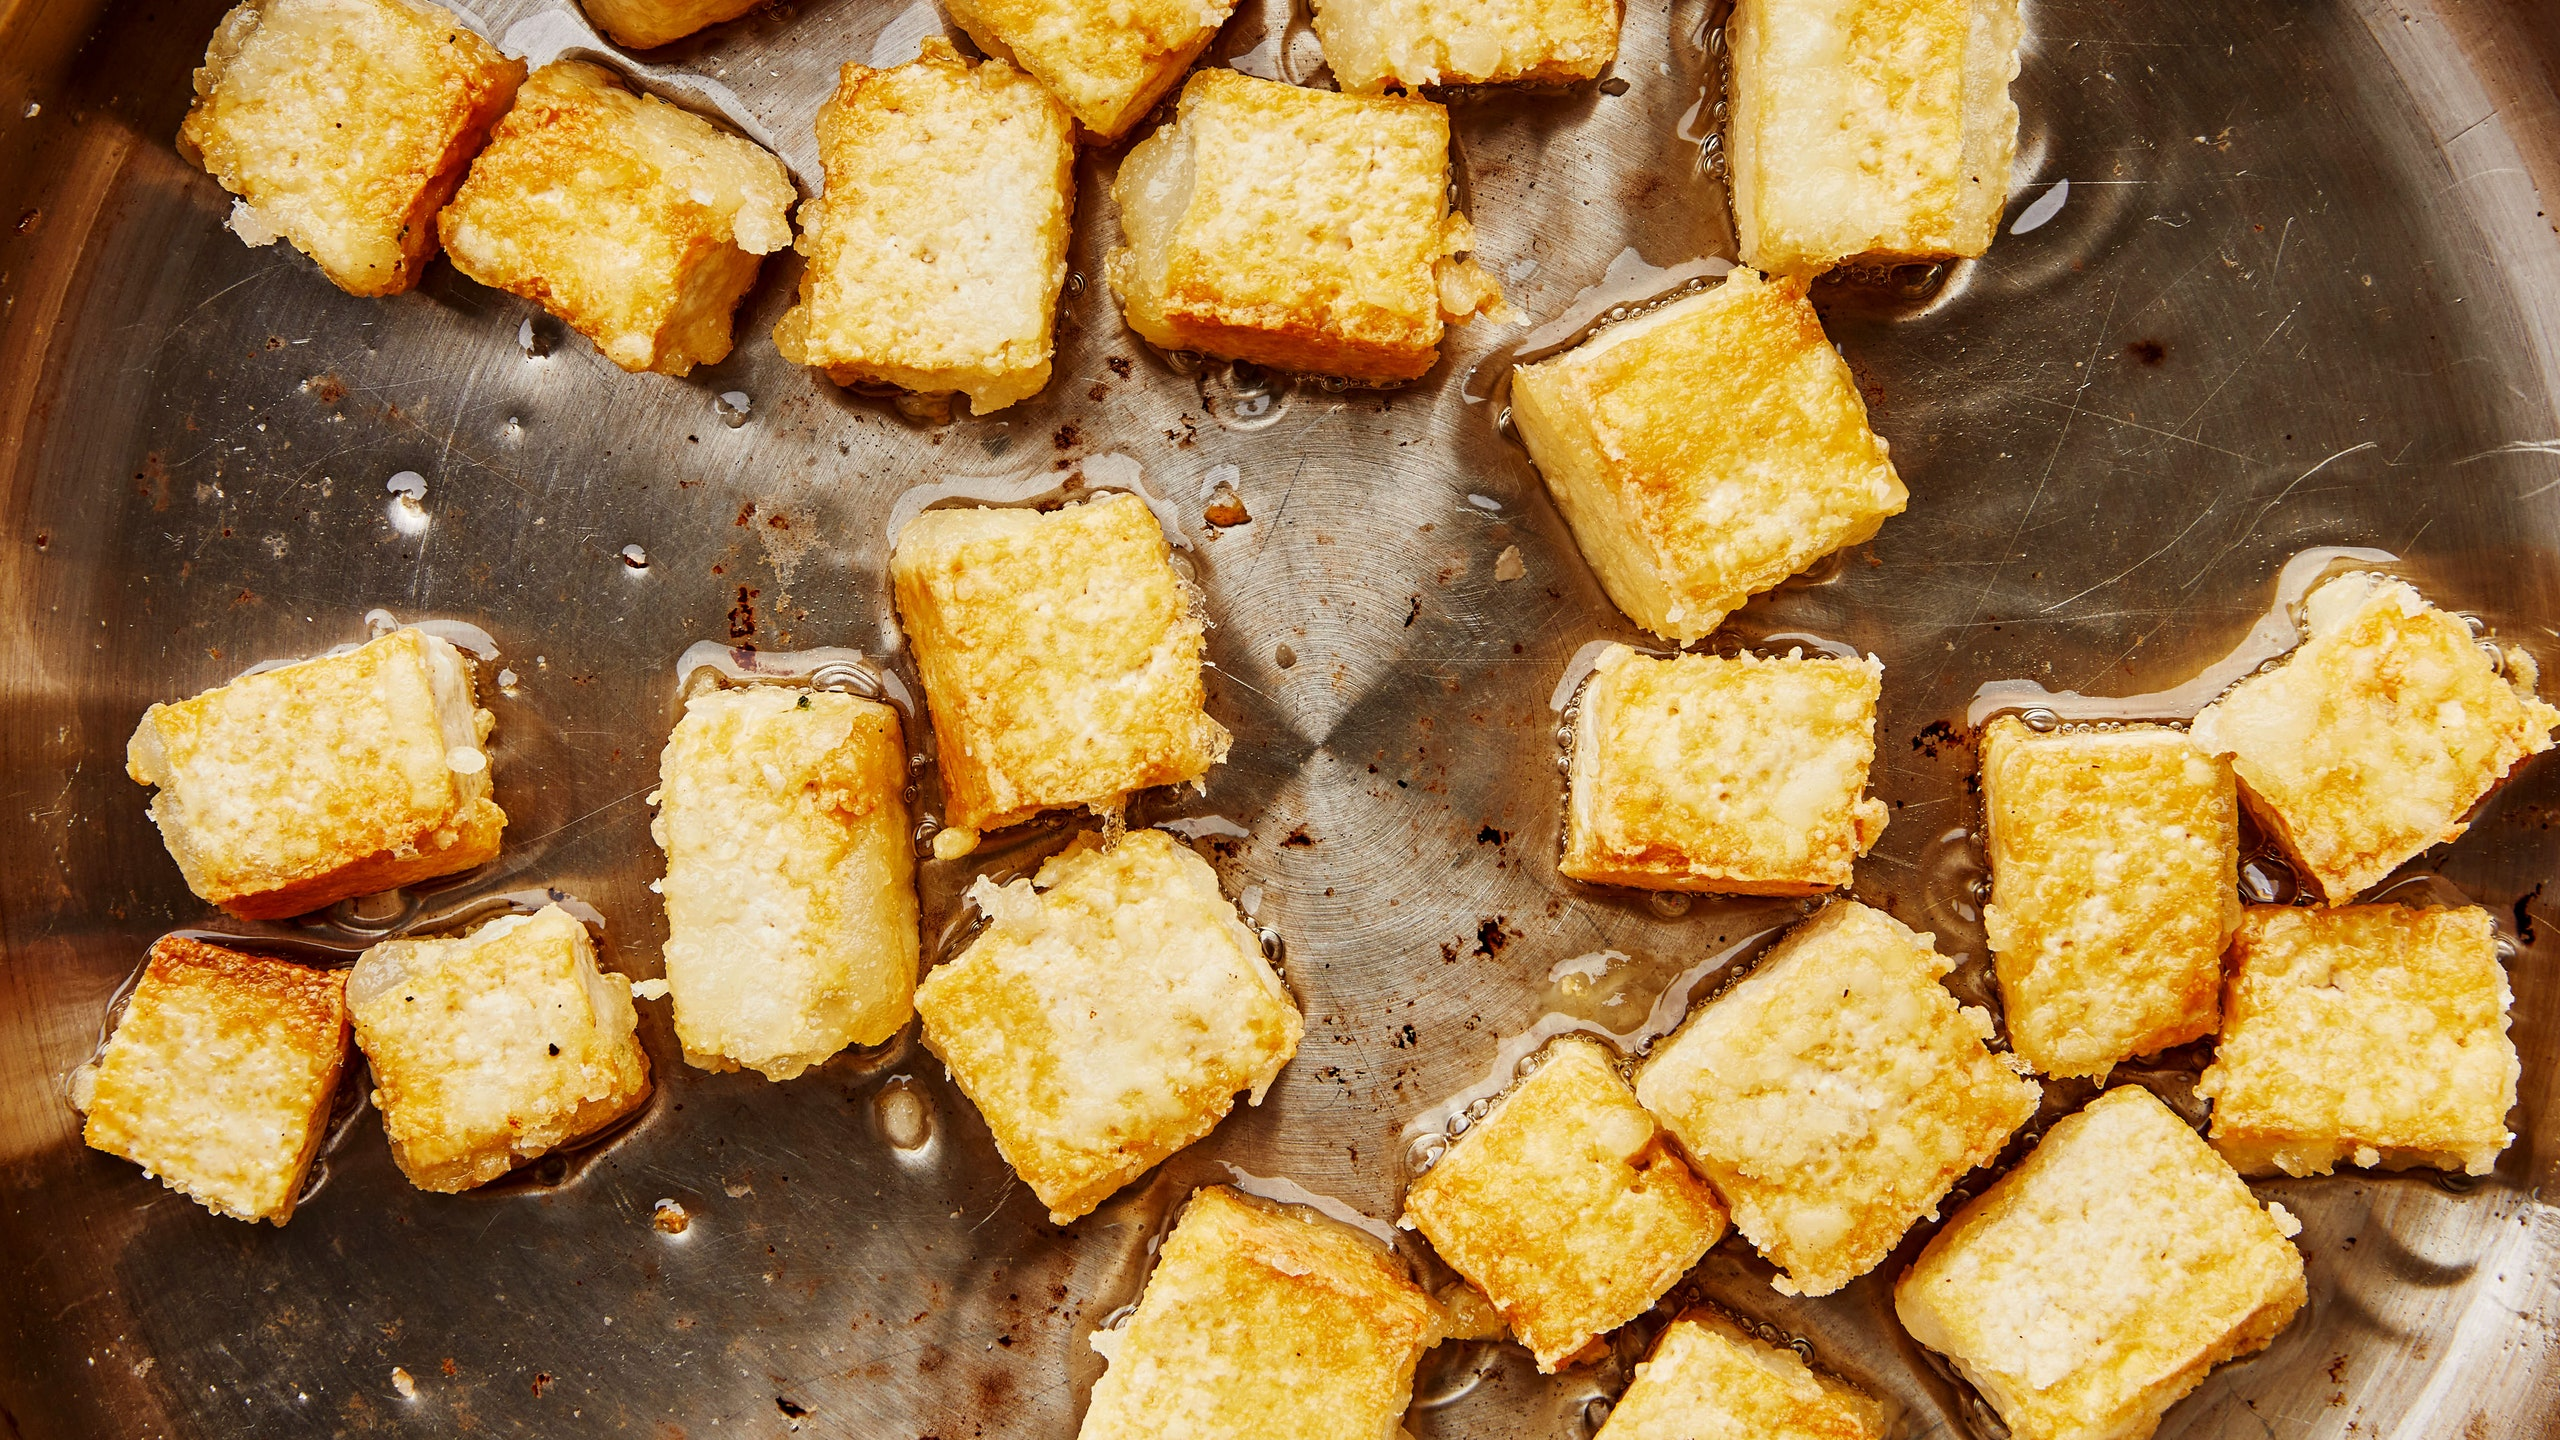Tahu: (596, 628, 913, 1118), (141, 550, 531, 937), (1036, 111, 1505, 420), (1924, 1055, 2324, 1403), (932, 789, 1289, 1166), (1064, 1143, 1502, 1440), (1533, 318, 1922, 612), (1959, 686, 2287, 1029), (902, 468, 1238, 802), (1514, 614, 1932, 881), (47, 907, 389, 1233), (1709, 900, 2031, 1217), (782, 49, 1065, 380), (1424, 1013, 1686, 1329), (367, 886, 601, 1183)
